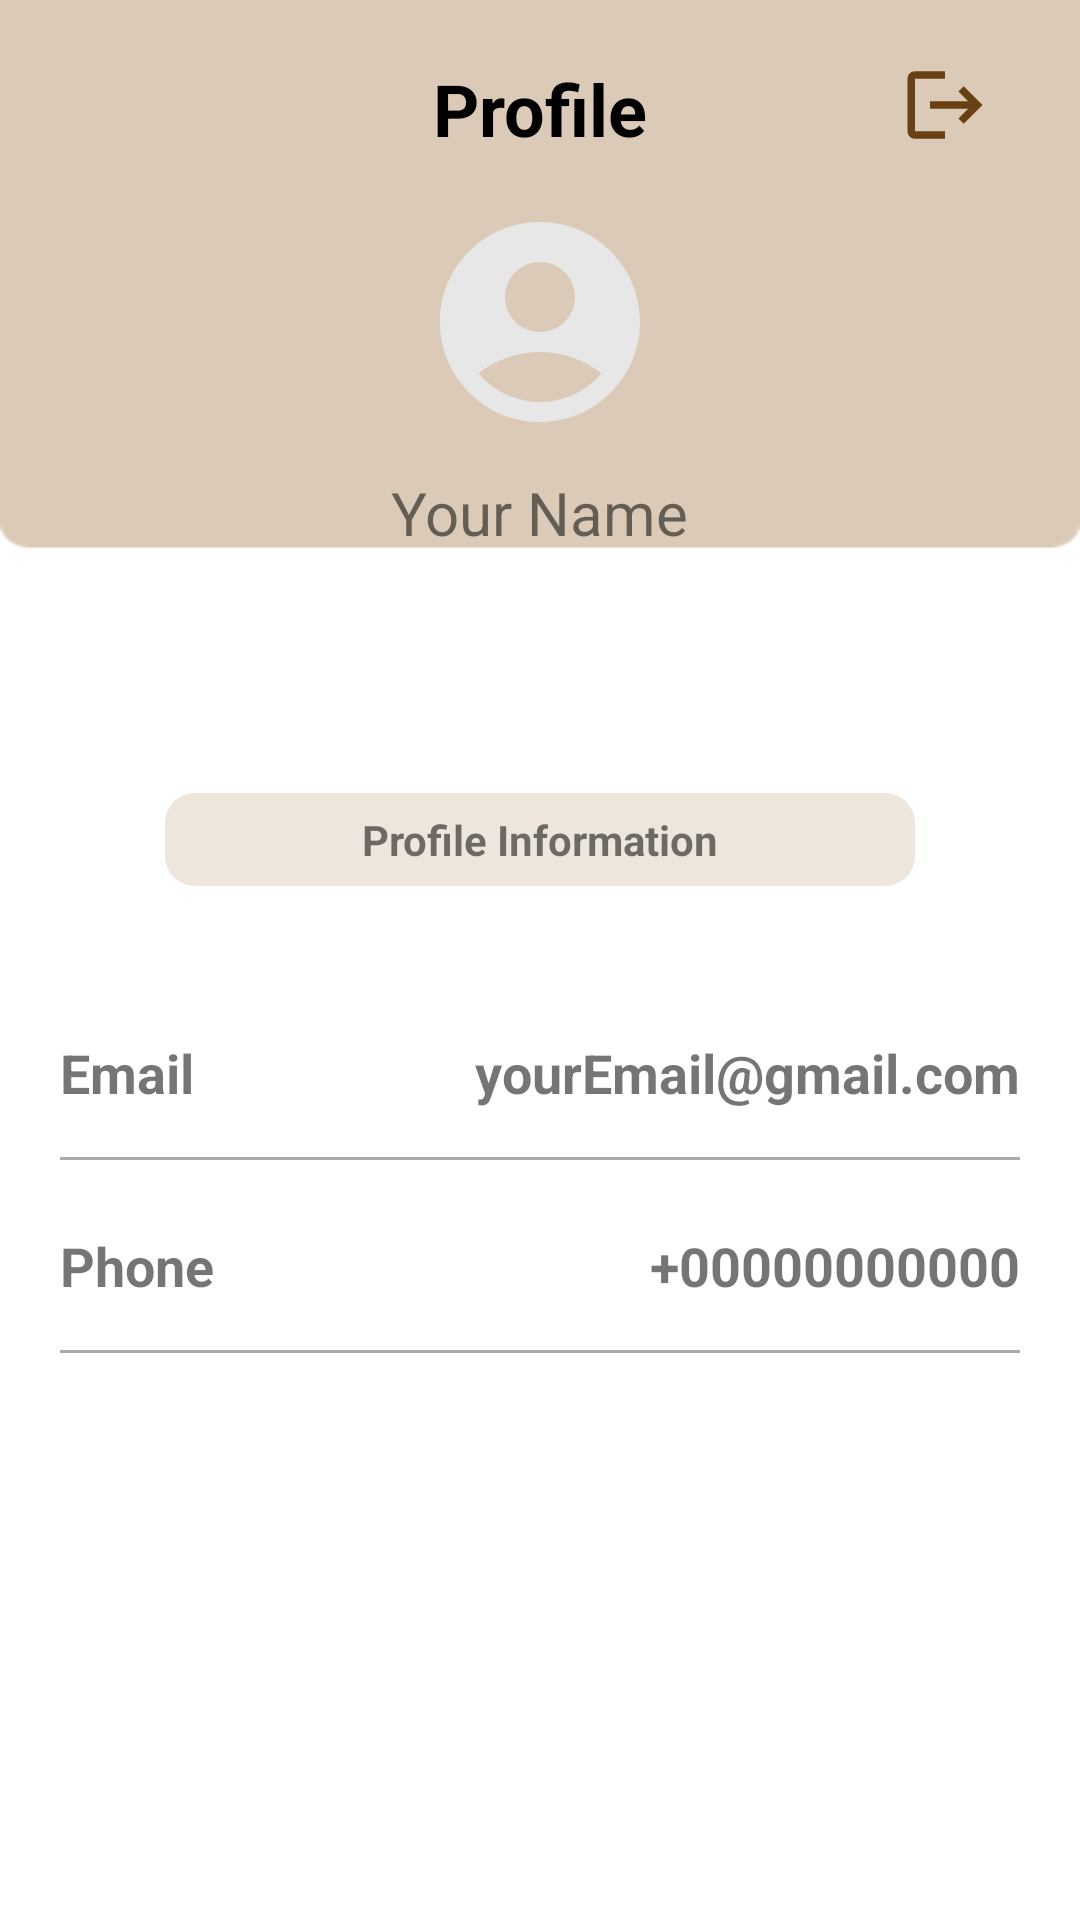

Icon click points for this 1080*1920 phone screenshot, format (x=x, y=y):
account circle: (x=540, y=322)
